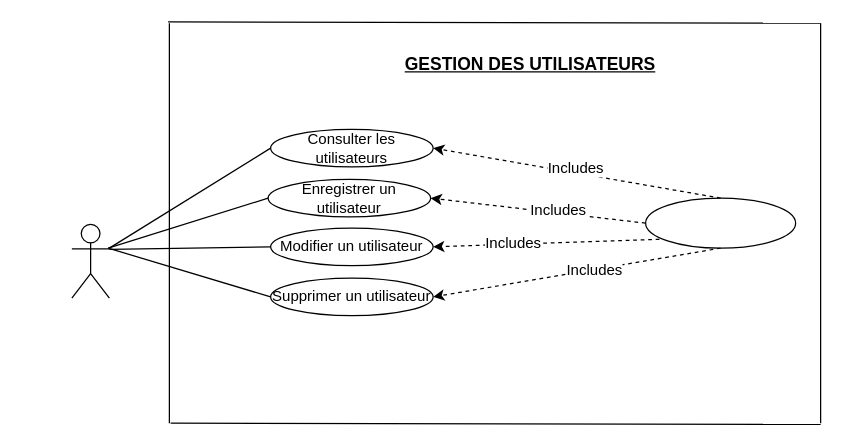
This 844x448 diagram has some shape labels left out. Here are the shapes that lost their labels. From the top down, the centre of each, then its label:
At (x=720, y=222): "S'authentifier".
At (x=90, y=260): "RESPONSABLE INFRASTRUCTURE".
